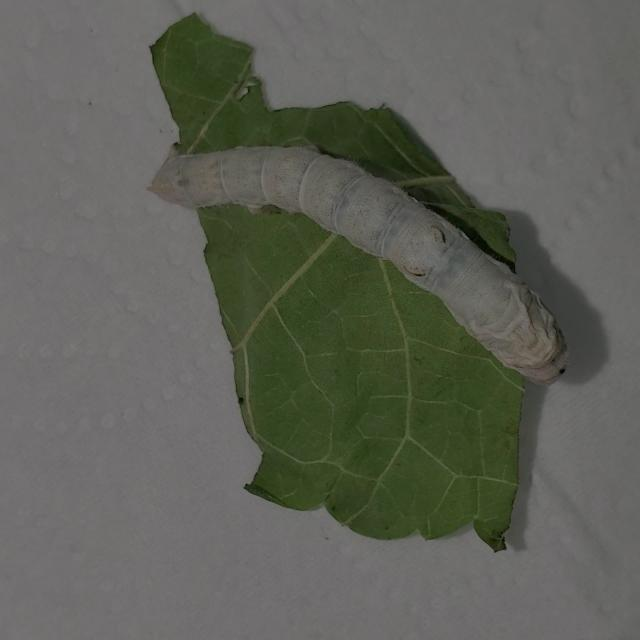Healthy: (144, 130, 576, 399)
